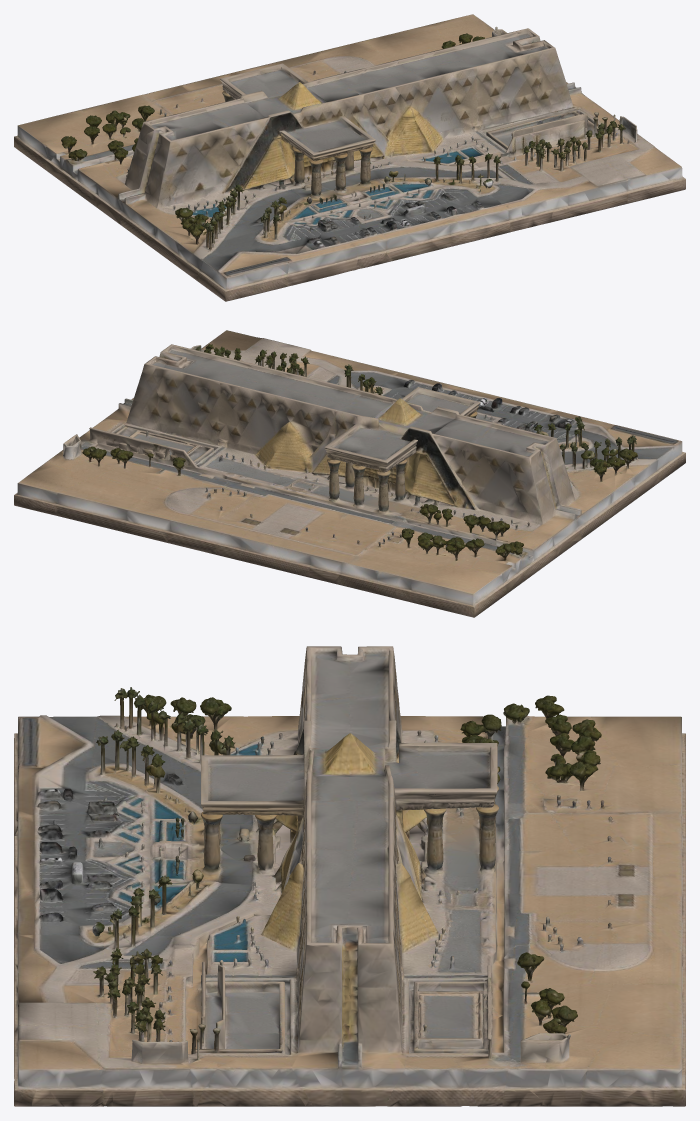
Rendered from temple.glb.
3 renders of one model, top to bottom at view 1: azimuth 30°, elevation 25°; view 2: azimuth 150°, elevation 25°; view 3: azimuth 270°, elevation 25°, orthographic. The views are drawn at different scales.
Parts seen in each view (by area): view 1: mesh_node; view 2: mesh_node; view 3: mesh_node.
Part boxes in pixels (x1=…): mesh_node: x1=14, y1=14, x2=685, y2=301; mesh_node: x1=14, y1=330, x2=685, y2=617; mesh_node: x1=14, y1=646, x2=685, y2=1106.
Size of the model in its own units: 1.9 by 0.3896 by 1.51.
1 material, 1 textured.
